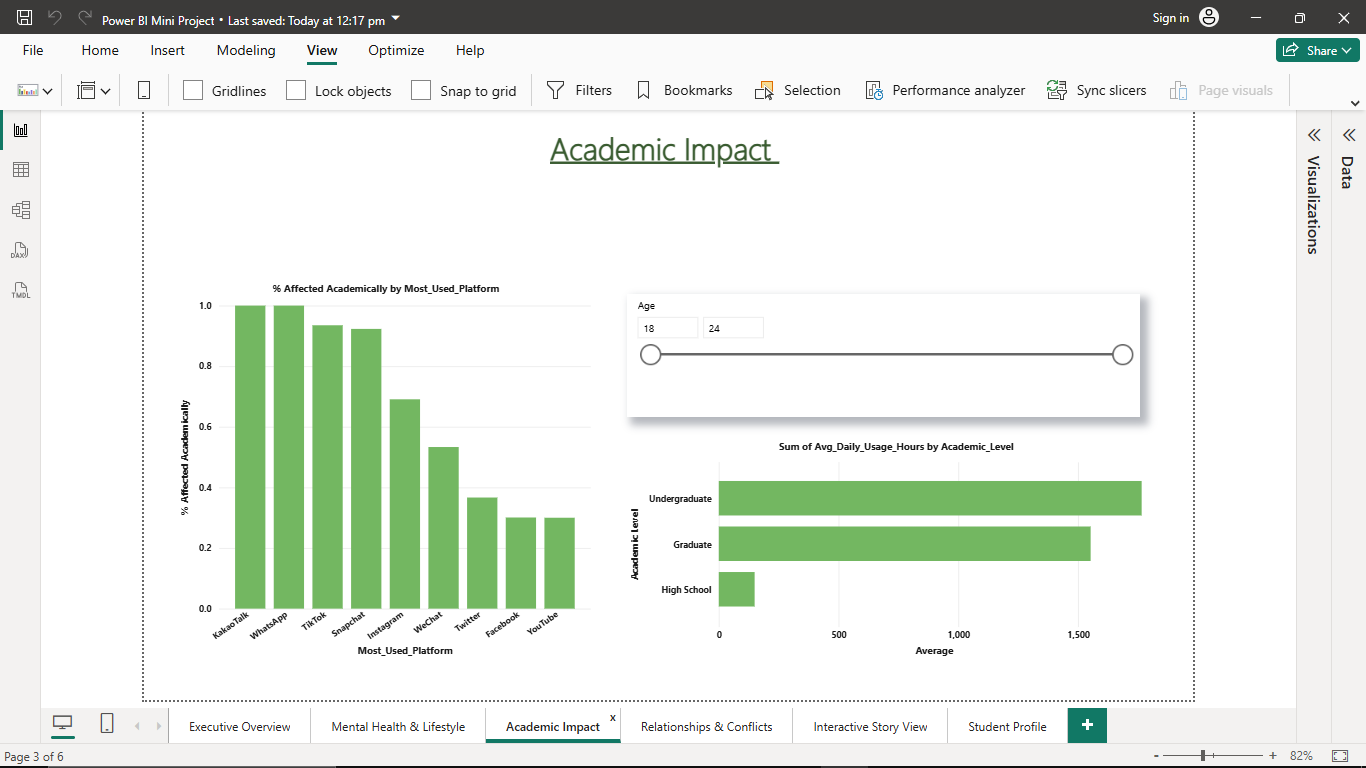

This screenshot's page, from the dashboard's own definition file:
{"tool":"powerbi","page":{"name":"Academic Impact ","canvas":[1280,720],"ordinal":2},"visuals":[{"type":"clusteredColumnChart","fields":{"Y":["Platform Details.% Affected Academically"],"Category":["Platform Details.Most_Used_Platform"]},"box":[40,208.6,510,462.9],"z":0},{"type":"clusteredBarChart","fields":{"Y":["Sum(Platform Details.Avg_Daily_Usage_Hours)"],"Category":["Student Details.Academic_Level"]},"box":[590,401.4,657.1,270],"z":1000},{"type":"textbox","box":[77.8,15.8,1114.6,64.8],"z":2000},{"type":"slicer","fields":{"Values":["Student Details.Age"]},"box":[590,224.3,625.7,150],"z":3000}]}

Visuals, with their boxes on the page's 1280x720 design canvas (x1, y1, x2, y2). These are canvas units, not pixel positions in the 1366x768 screenshot, which may show the page scaled, cropped or inside an application window:
clusteredColumnChart - Platform Details.% Affected Academically x Platform Details.Most_Used_Platform: left=40, top=209, right=550, bottom=672
clusteredBarChart - Sum(Platform Details.Avg_Daily_Usage_Hours) x Student Details.Academic_Level: left=590, top=401, right=1247, bottom=671
textbox: left=78, top=16, right=1192, bottom=81
slicer - Student Details.Age: left=590, top=224, right=1216, bottom=374
